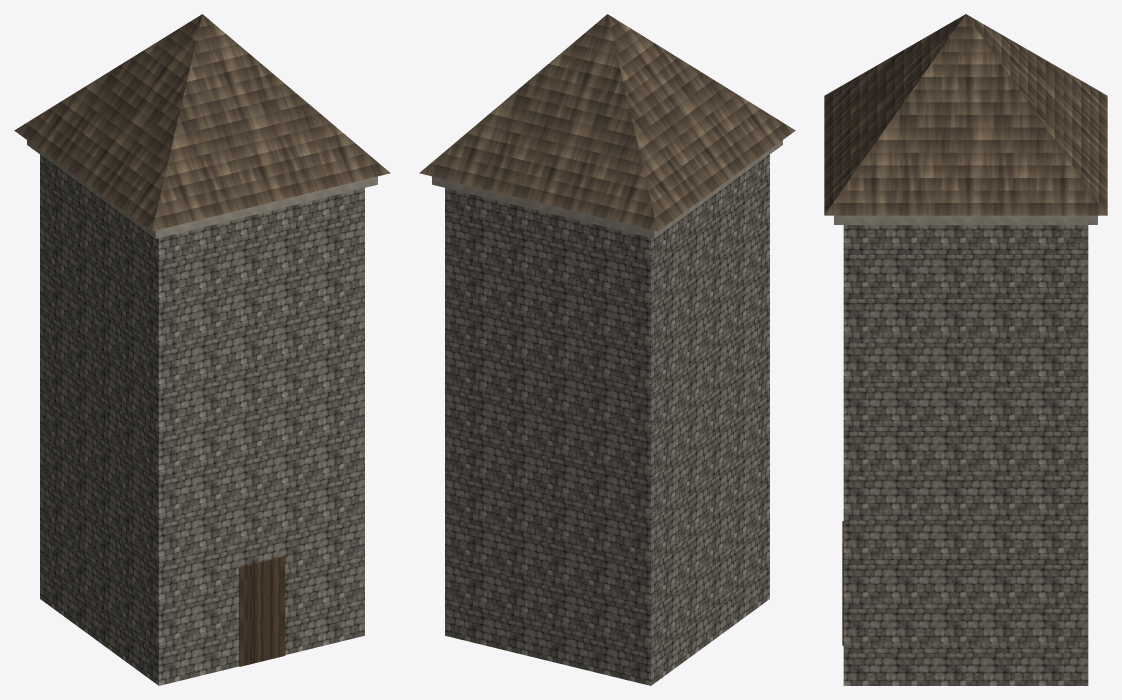
File: Tower_Square_Village_1_LOD2.gltf
3 renders of one model, left to right at view 1: azimuth 30°, elevation 25°; view 2: azimuth 150°, elevation 25°; view 3: azimuth 270°, elevation 25°, orthographic. The views are drawn at different scales.
Visible parts, largest first — view 1: Tower_Square_Village_1_LOD2; view 2: Tower_Square_Village_1_LOD2; view 3: Tower_Square_Village_1_LOD2.
Part boxes in pixels (box(x1,y1,x2,y2)): Tower_Square_Village_1_LOD2: box(14, 14, 390, 685); Tower_Square_Village_1_LOD2: box(419, 14, 795, 685); Tower_Square_Village_1_LOD2: box(824, 14, 1107, 685).
Size of the model in its own units: 5.8 by 14 by 5.8.
Materials: 4 (4 with a texture image).
